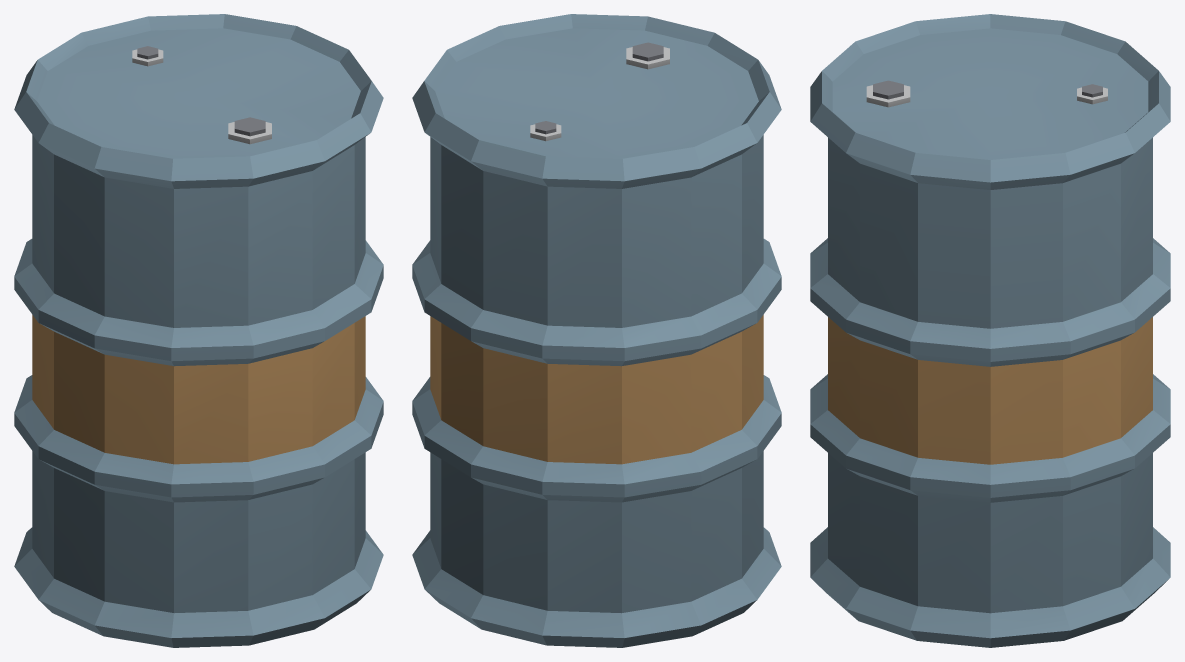
Rendered from drum.glb.
3 renders of one model, left to right at view 1: azimuth 30°, elevation 25°; view 2: azimuth 150°, elevation 25°; view 3: azimuth 270°, elevation 25°, orthographic.
Parts seen in each view (by area): view 1: drum.001; view 2: drum.001; view 3: drum.001.
Part boxes in pixels (box(x1,y1,x2,y2)): drum.001: box(14, 14, 383, 647); drum.001: box(412, 14, 781, 647); drum.001: box(810, 14, 1170, 647).
Bounding box in the file's own units: 0.616 × 0.9 × 0.6006.
